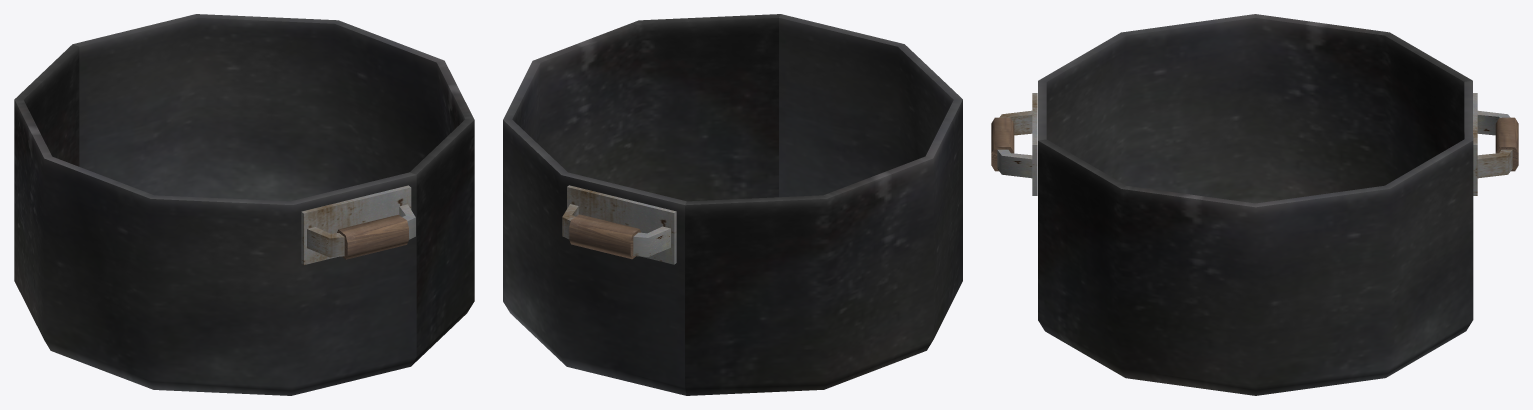
Rendered from pan04.fbx.
3 renders of one model, left to right at view 1: azimuth 30°, elevation 25°; view 2: azimuth 150°, elevation 25°; view 3: azimuth 270°, elevation 25°, orthographic.
Visible parts, largest first — view 1: pan04; view 2: pan04; view 3: pan04.
Part boxes in pixels (x1,y1,x2,y2): pan04: (14,14,474,395); pan04: (503,14,962,395); pan04: (991,14,1518,395).
Size of the model in its own units: 40.64 by 18.79 by 46.85.
